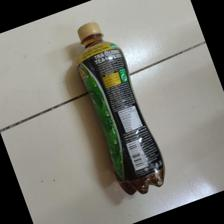Olong: (76, 17, 163, 192)
